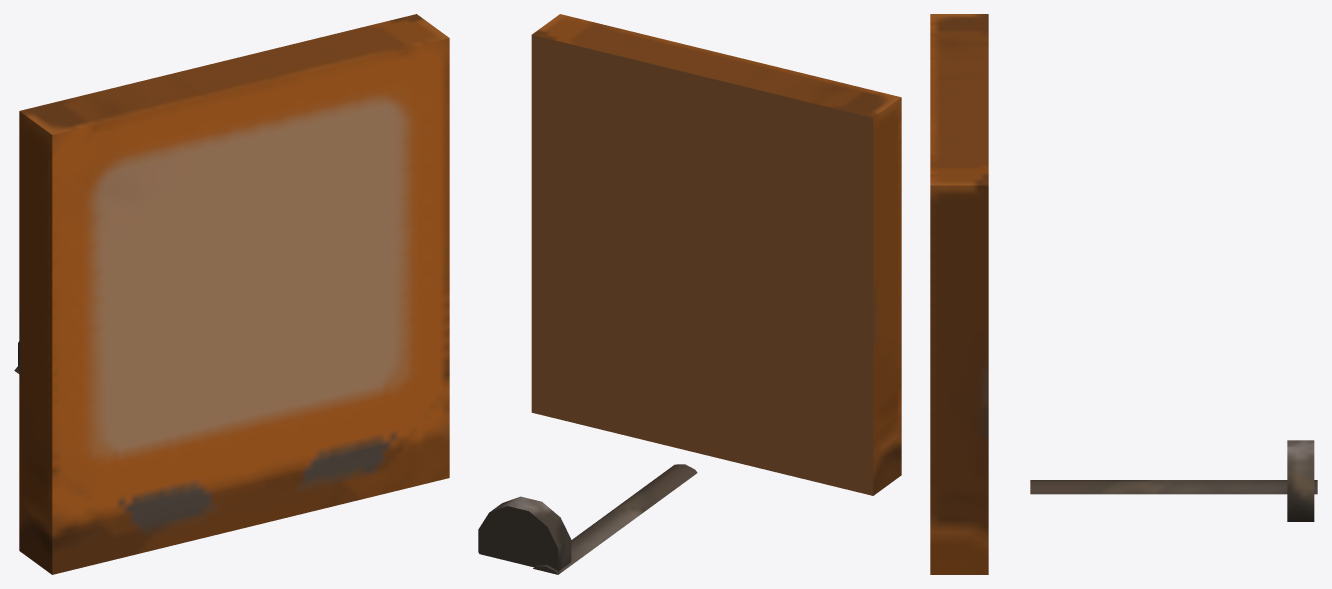
File: section-2.obj
3 views of the same model, side by side, from view 1: azimuth 30°, elevation 25°; view 2: azimuth 150°, elevation 25°; view 3: azimuth 270°, elevation 25° (orthographic). The views are drawn at different scales.
Size of the model in its own units: 0.9324 by 0.9859 by 0.8889.
Materials: 1 (1 with a texture image).
